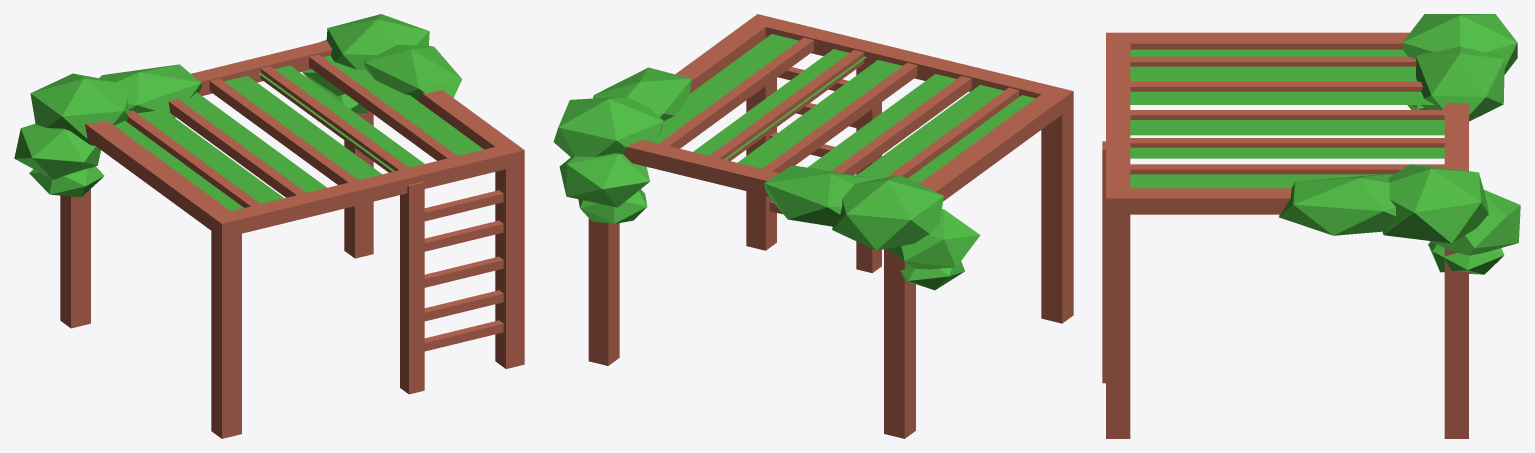
File: 3d_icons_shadow_rek.fbx
The picture shows the model from 3 angles, left to right: view 1: azimuth 30°, elevation 25°; view 2: azimuth 150°, elevation 25°; view 3: azimuth 270°, elevation 25°; orthographic projection. The views are drawn at different scales.
Visible parts, largest first — view 1: schaduw_rek; view 2: schaduw_rek; view 3: schaduw_rek.
Boxes of the visible parts, x1,y1,x2,y2 form: schaduw_rek: (14,14,524,438); schaduw_rek: (553,14,1073,438); schaduw_rek: (1102,14,1520,438).
Bounding box in the file's own units: 261 × 151 × 213.
